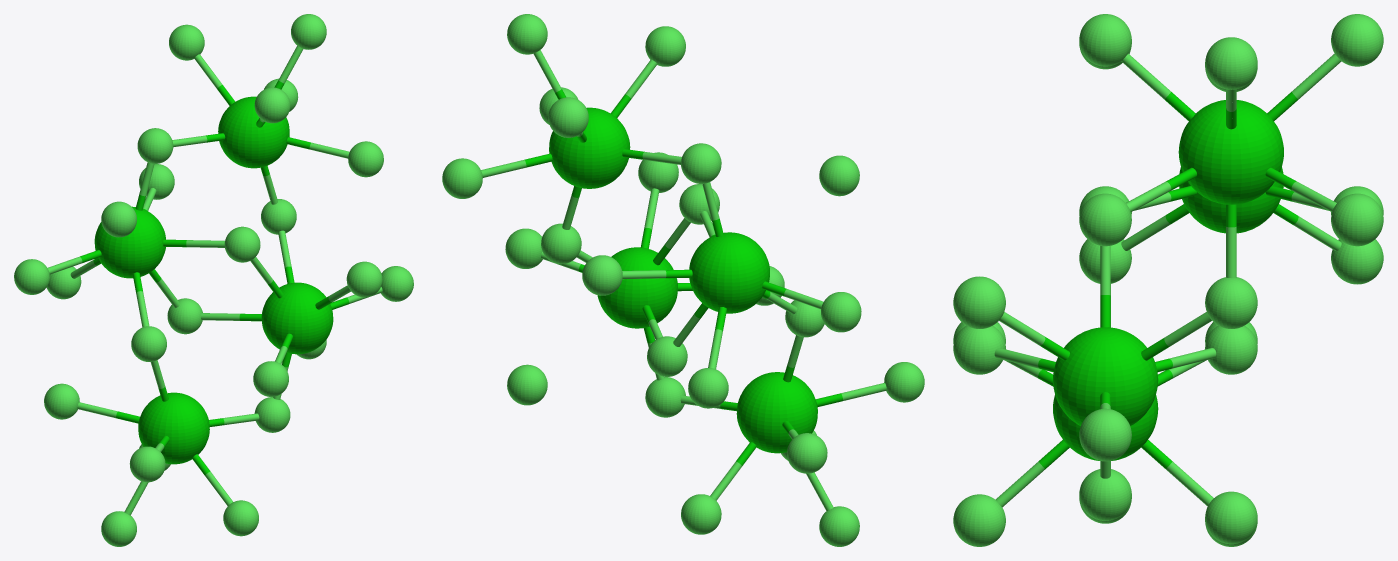
The model's file is bariumchloride.dae.
The picture shows the model from 3 angles, left to right: view 1: azimuth 30°, elevation 25°; view 2: azimuth 150°, elevation 25°; view 3: azimuth 270°, elevation 25°; orthographic projection. The views are drawn at different scales.
Visible parts, largest first — view 1: Ball_Barium_004, Ball_Barium_001, Ball_Barium_002, Ball_Barium_003, Ball_Chlorine_014, Ball_Chlorine_005, Ball_Chlorine_023, Ball_Chlorine_008, Ball_Chlorine_012, Ball_Chlorine_009, Ball_Chlorine_017, Ball_Chlorine_019 (+13 smaller); view 2: Ball_Barium_003, Ball_Barium_001, Ball_Barium_002, Ball_Barium_004, Ball_Chlorine_005, Ball_Chlorine_006, Ball_Chlorine_003, Ball_Chlorine_010, Ball_Chlorine_013, Ball_Chlorine_018, Ball_Chlorine_020, Ball_Chlorine_016 (+13 smaller); view 3: Ball_Barium_002, Ball_Barium_004, Ball_Barium_003, Ball_Chlorine_018, Ball_Chlorine_016, Ball_Chlorine_017, Ball_Chlorine_024, Ball_Chlorine_006, Ball_Chlorine_023, Ball_Chlorine_014, Ball_Chlorine_015, Ball_Chlorine_012 (+7 smaller).
Part boxes in pixels (bbox=[...]): Ball_Barium_004: bbox=[261, 282, 333, 354]; Ball_Barium_001: bbox=[138, 392, 209, 464]; Ball_Barium_002: bbox=[218, 96, 289, 168]; Ball_Barium_003: bbox=[94, 206, 165, 278]; Ball_Chlorine_014: bbox=[254, 87, 290, 123]; Ball_Chlorine_005: bbox=[101, 201, 136, 237]; Ball_Chlorine_023: bbox=[346, 261, 382, 297]; Ball_Chlorine_008: bbox=[224, 226, 260, 262]; Ball_Chlorine_012: bbox=[223, 500, 258, 536]; Ball_Chlorine_009: bbox=[129, 446, 165, 482]; Ball_Chlorine_017: bbox=[348, 141, 383, 177]; Ball_Chlorine_019: bbox=[14, 259, 49, 294]; Ball_Barium_003: bbox=[689, 232, 769, 313]; Ball_Barium_001: bbox=[736, 372, 817, 453]; Ball_Barium_002: bbox=[549, 107, 630, 188]; Ball_Barium_004: bbox=[597, 247, 677, 328]; Ball_Chlorine_005: bbox=[819, 155, 859, 196]; Ball_Chlorine_006: bbox=[507, 364, 547, 405]; Ball_Chlorine_003: bbox=[681, 143, 721, 183]; Ball_Chlorine_010: bbox=[787, 433, 827, 473]; Ball_Chlorine_013: bbox=[681, 494, 721, 534]; Ball_Chlorine_018: bbox=[442, 158, 482, 198]; Ball_Chlorine_020: bbox=[688, 368, 728, 408]; Ball_Chlorine_016: bbox=[507, 14, 547, 54]; Ball_Barium_002: bbox=[1178, 100, 1283, 204]; Ball_Barium_004: bbox=[1053, 327, 1158, 425]; Ball_Barium_003: bbox=[1179, 167, 1283, 233]; Ball_Chlorine_018: bbox=[1331, 193, 1383, 246]; Ball_Chlorine_016: bbox=[1205, 37, 1257, 89]; Ball_Chlorine_017: bbox=[1079, 193, 1131, 246]; Ball_Chlorine_024: bbox=[1079, 408, 1131, 461]; Ball_Chlorine_006: bbox=[1205, 491, 1257, 544]; Ball_Chlorine_023: bbox=[953, 276, 1005, 328]; Ball_Chlorine_014: bbox=[1079, 14, 1131, 66]; Ball_Chlorine_015: bbox=[1331, 14, 1383, 66]; Ball_Chlorine_012: bbox=[953, 494, 1005, 546].
Bounding box in the file's own units: 11.22 × 8.09 × 13.44.
